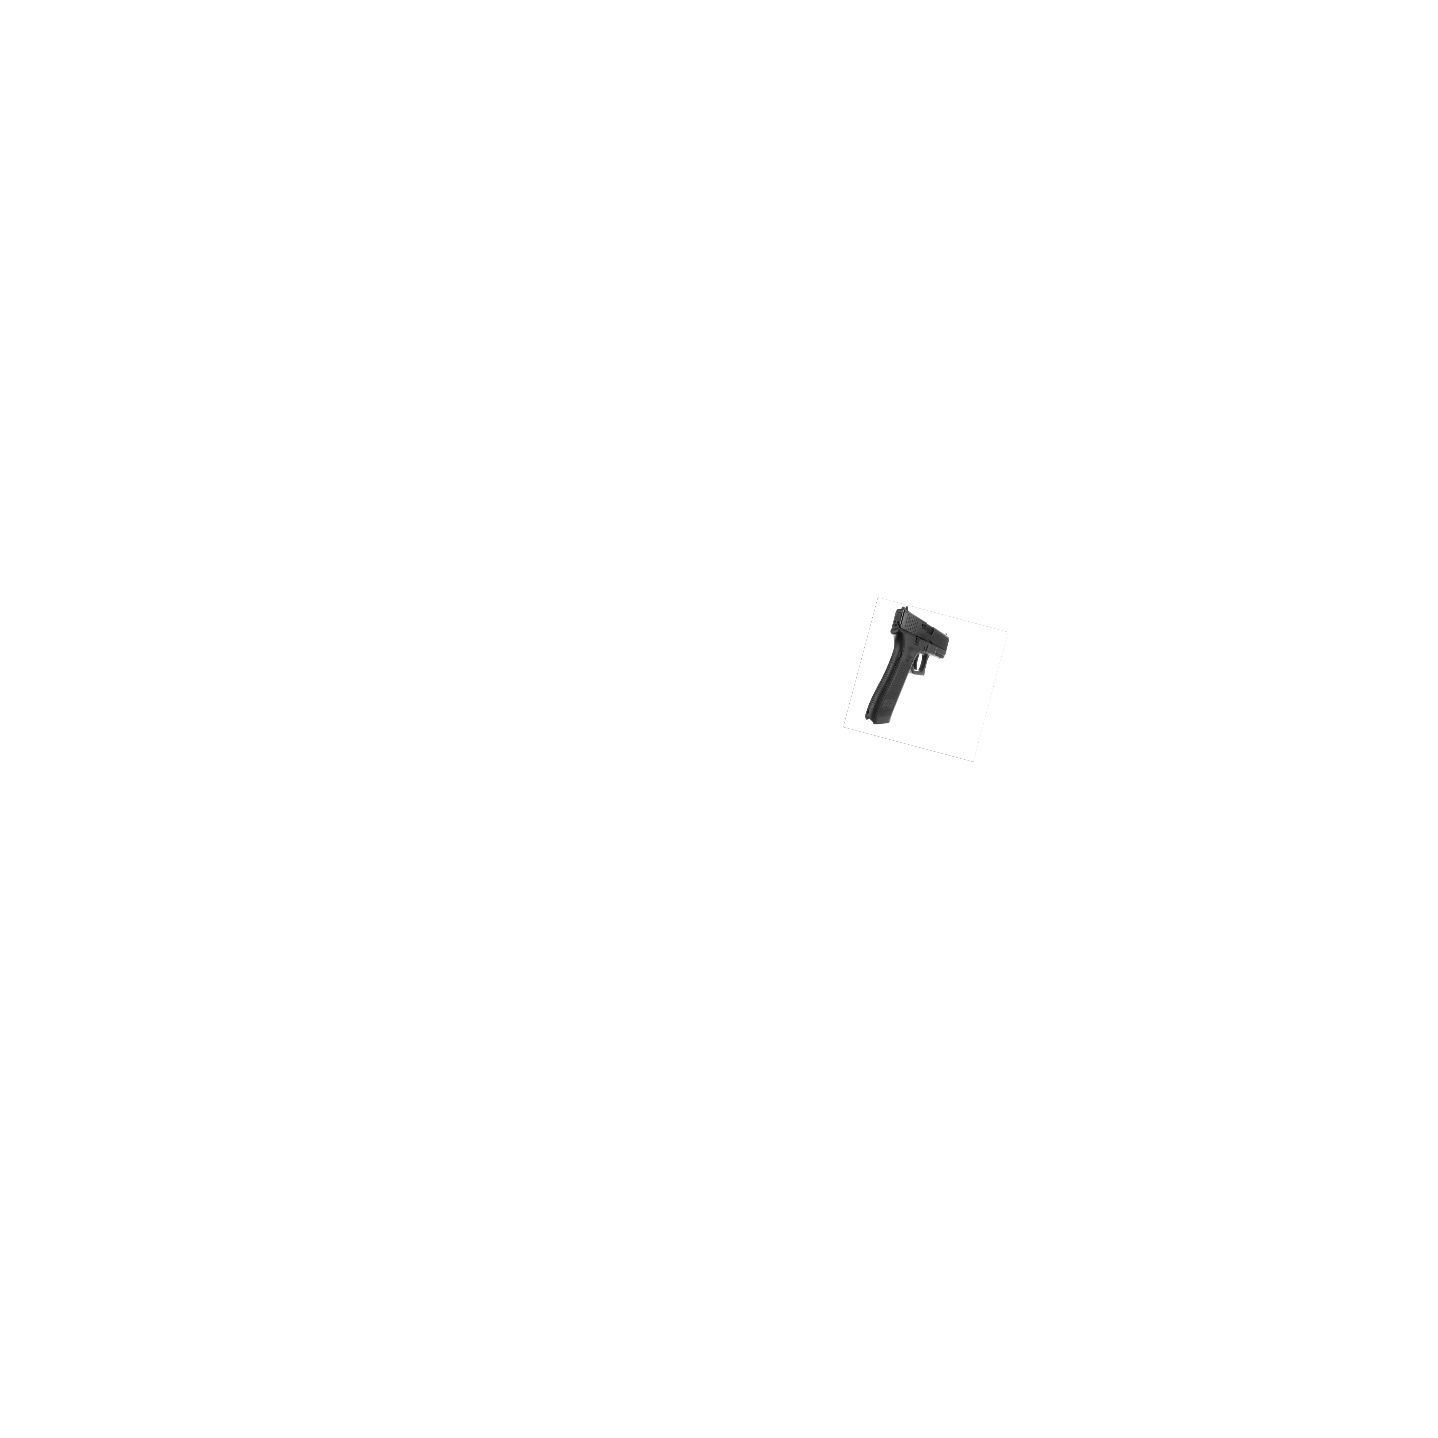gun: (865, 608, 948, 726)
